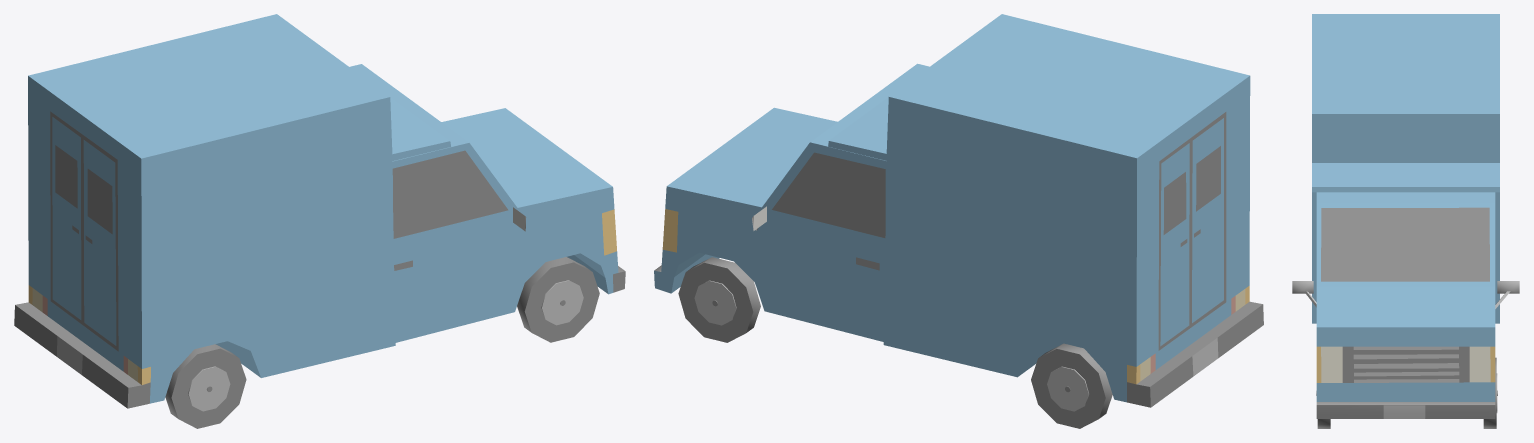
The model's file is truck3.fbx.
3 views of the same model, side by side, from view 1: azimuth 30°, elevation 25°; view 2: azimuth 150°, elevation 25°; view 3: azimuth 270°, elevation 25° (orthographic). The views are drawn at different scales.
Parts seen in each view (by area): view 1: Extrude, Cylinder_6, Cylinder_9; view 2: Extrude, Cylinder_7, Cylinder_8; view 3: Extrude, Cylinder_7.
Part boxes in pixels (box(x1,y1,x2,y2)): Extrude: box(14, 14, 625, 408); Cylinder_6: box(517, 257, 599, 342); Cylinder_9: box(165, 344, 246, 428); Extrude: box(654, 14, 1263, 407); Cylinder_7: box(678, 257, 760, 342); Cylinder_8: box(1031, 343, 1112, 428); Extrude: box(1292, 14, 1519, 418); Cylinder_7: box(1483, 357, 1497, 428).
Size of the model in its own units: 510 by 281 by 242.
